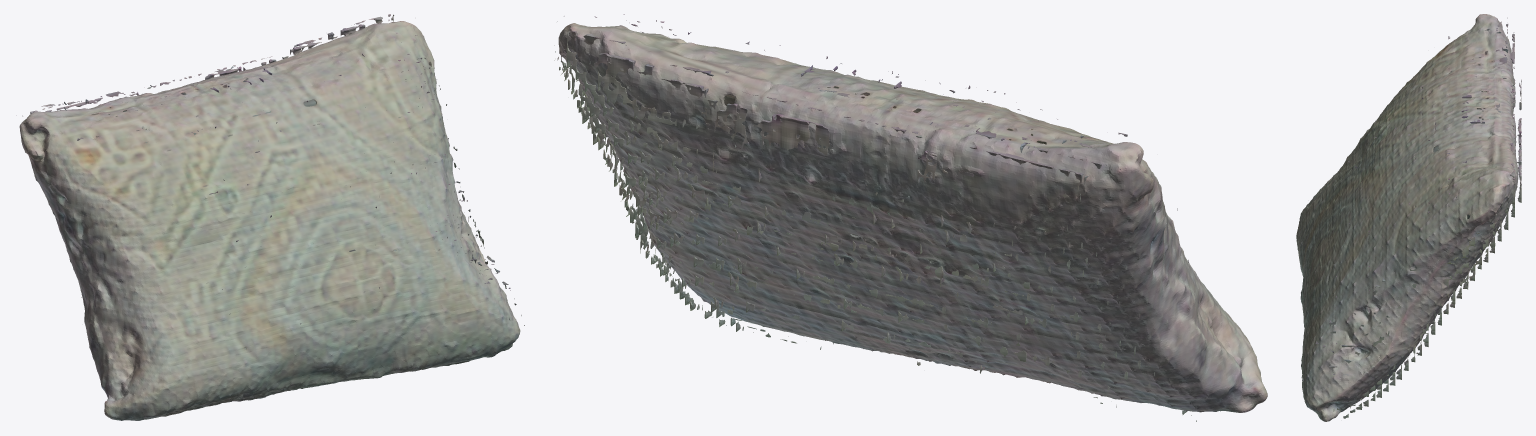
3 renders of one model, left to right at view 1: azimuth 30°, elevation 25°; view 2: azimuth 150°, elevation 25°; view 3: azimuth 270°, elevation 25°, orthographic. The views are drawn at different scales.
Parts seen in each view (by area): view 1: geometry_0; view 2: geometry_0; view 3: geometry_0.
Boxes of the visible parts, bbox=[...] form: geometry_0: bbox=[16, 14, 524, 420]; geometry_0: bbox=[554, 14, 1267, 421]; geometry_0: bbox=[1296, 14, 1521, 421].
Size of the model in its own units: 1 by 0.6254 by 0.5301.
